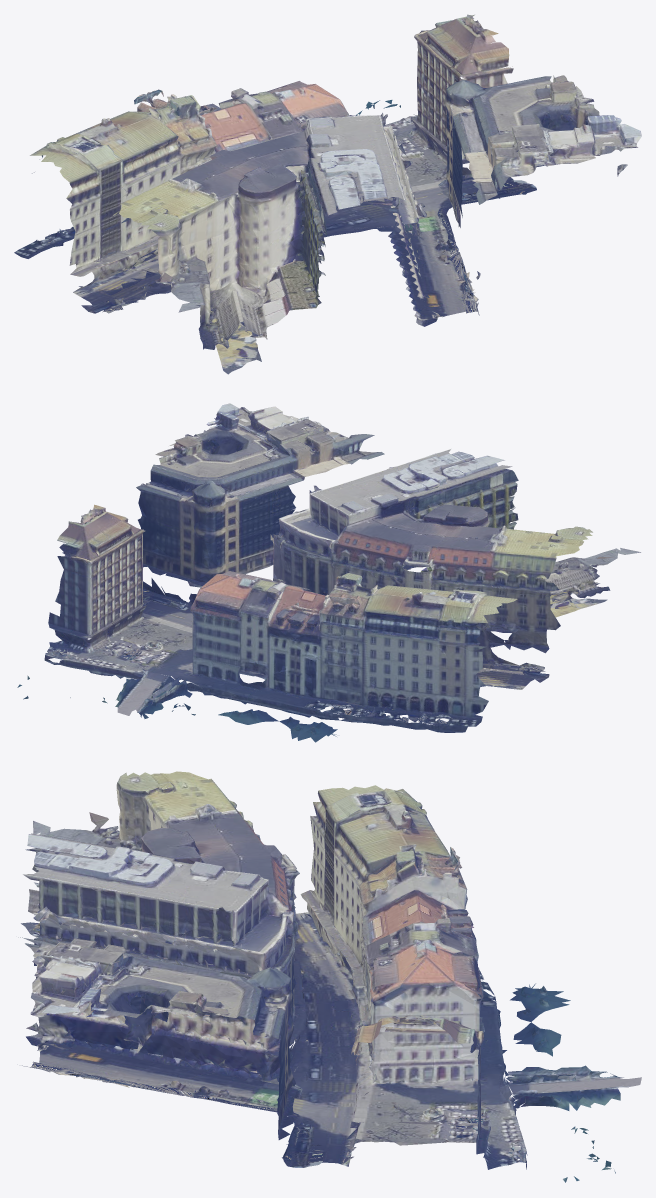
3 views of the same model, one above another, from view 1: azimuth 30°, elevation 25°; view 2: azimuth 150°, elevation 25°; view 3: azimuth 270°, elevation 25° (orthographic). The views are drawn at different scales.
Bounding box in the file's own units: 110 × 35.18 × 108.
Materials: 1 (1 with a texture image).
